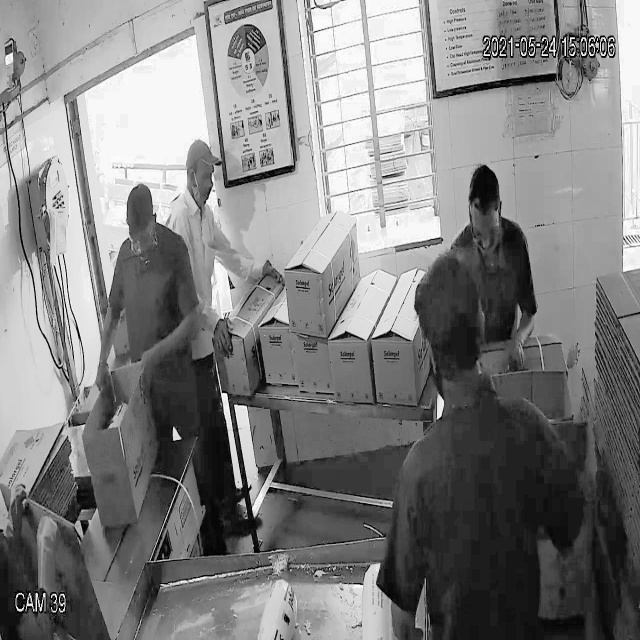Gafas: (122, 220, 157, 253)
